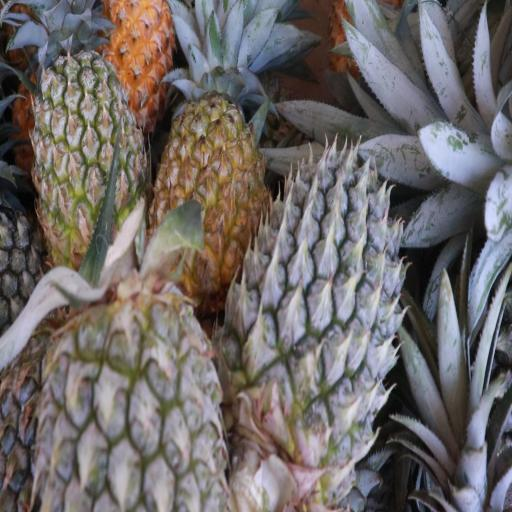------------------------------: (34, 54, 144, 264)
Pineapple - v8 v1: (151, 95, 261, 291), (88, 0, 176, 92)
